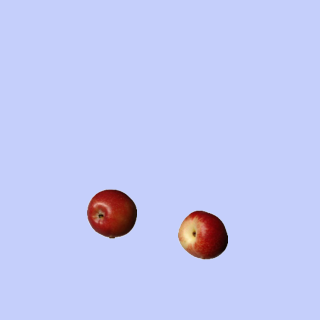Apple Braeburn: (86, 188, 136, 238)
Nectarine: (177, 209, 227, 259)
